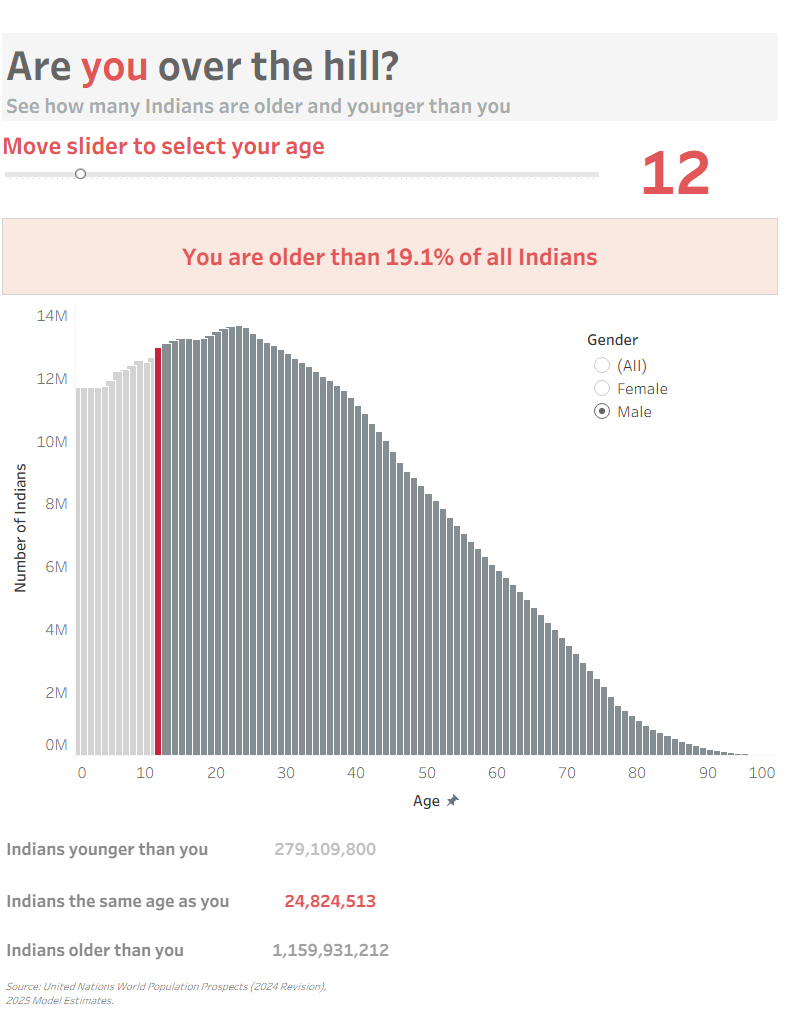

The page's visual inventory and layout, read from the dashboard file:
{"tool":"tableau","page":{"name":"Dashboard 1","canvas":[800,1000],"ordinal":0},"visuals":[{"type":"worksheet","title":"Title","mark":"Automatic","box":[8,8,784,96]},{"type":"parameter","param":"[Parameters].[Parameter 1642450118373376]","box":[8,104,608,89]},{"type":"worksheet","title":"Age Display","mark":"Automatic","box":[616,104,139,89]},{"type":"blank","box":[16,158,595,4]},{"type":"worksheet","title":"Percentile","mark":"Automatic","box":[8,193,784,85]},{"type":"worksheet","title":"Sheet 1","mark":"Bar","rows":["Population"],"cols":["Age"],"box":[8,278,784,523]},{"type":"filter","title":"Sheet 1","param":"[federated.1ck6atk1rmtmwn1byap3i0c1un3x].[none:Gender:nk]","box":[597,308,176,111]},{"type":"worksheet","title":"Younger","mark":"Automatic","box":[8,801,784,54]},{"type":"worksheet","title":"Same Age","mark":"Automatic","box":[8,855,784,49]},{"type":"worksheet","title":"Older","mark":"Automatic","box":[8,904,784,49]},{"type":"text","box":[8,953,784,39]}]}

Visuals, with their boxes on the page's 800x1000 design canvas (x1, y1, x2, y2). These are canvas units, not pixel positions in the 787x1021 screenshot, which may show the page scaled, cropped or inside an application window:
"Title" worksheet: <bbox>8, 8, 792, 104</bbox>
parameter: <bbox>8, 104, 616, 193</bbox>
"Age Display" worksheet: <bbox>616, 104, 755, 193</bbox>
blank: <bbox>16, 158, 611, 162</bbox>
"Percentile" worksheet: <bbox>8, 193, 792, 278</bbox>
"Sheet 1" worksheet (Bar marks): <bbox>8, 278, 792, 801</bbox>
"Sheet 1" filter: <bbox>597, 308, 773, 419</bbox>
"Younger" worksheet: <bbox>8, 801, 792, 855</bbox>
"Same Age" worksheet: <bbox>8, 855, 792, 904</bbox>
"Older" worksheet: <bbox>8, 904, 792, 953</bbox>
text: <bbox>8, 953, 792, 992</bbox>
